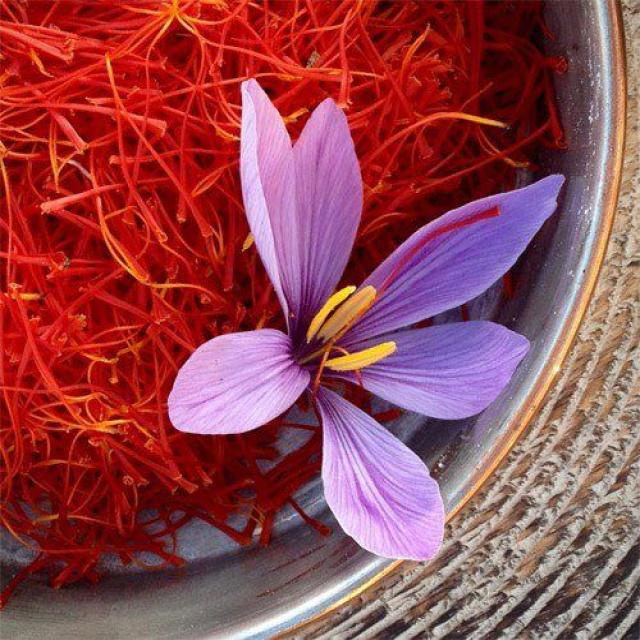Flower: (230, 185, 537, 522)
stigma: (372, 205, 509, 282)
